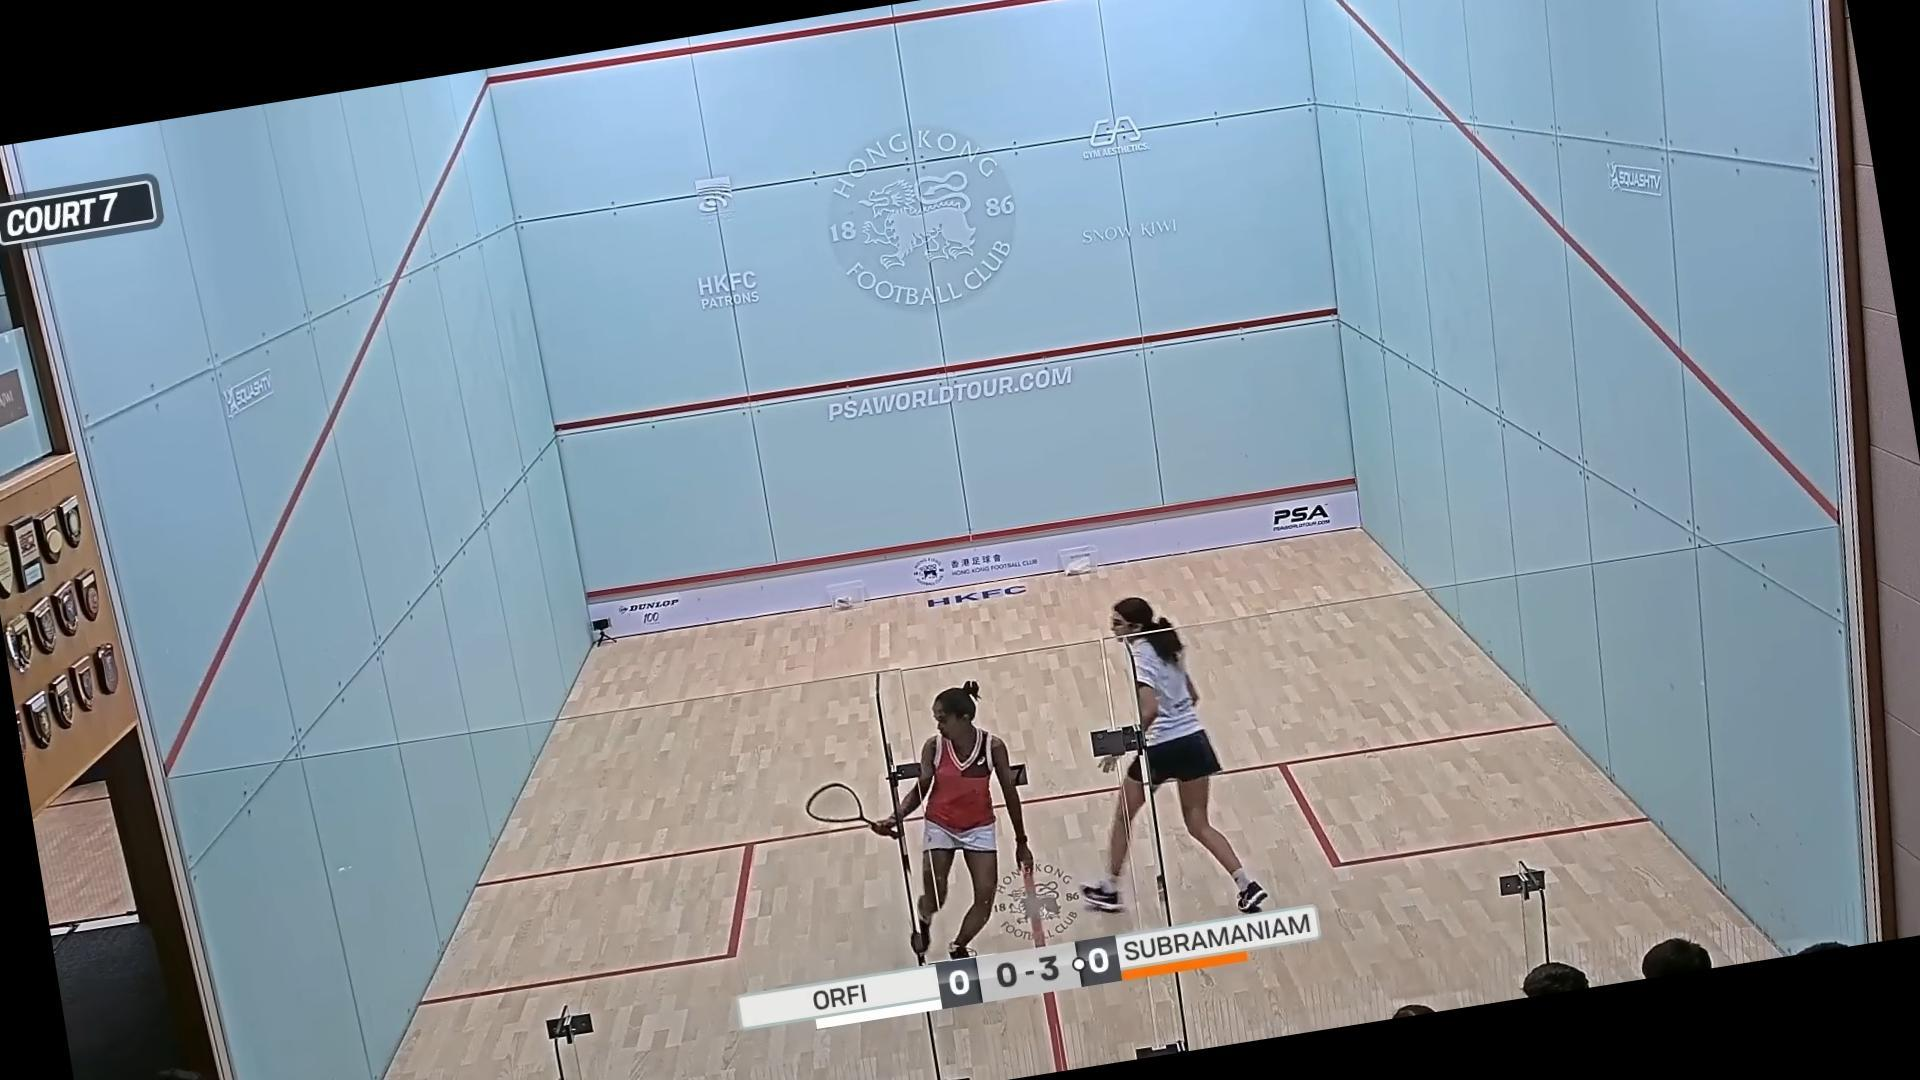Squash-Ball: (549, 1071, 574, 1080)
